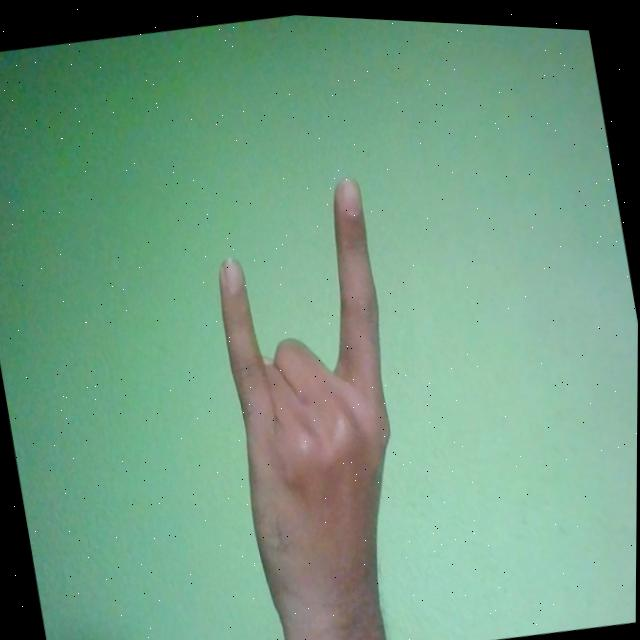Rock On: (194, 161, 440, 640)
